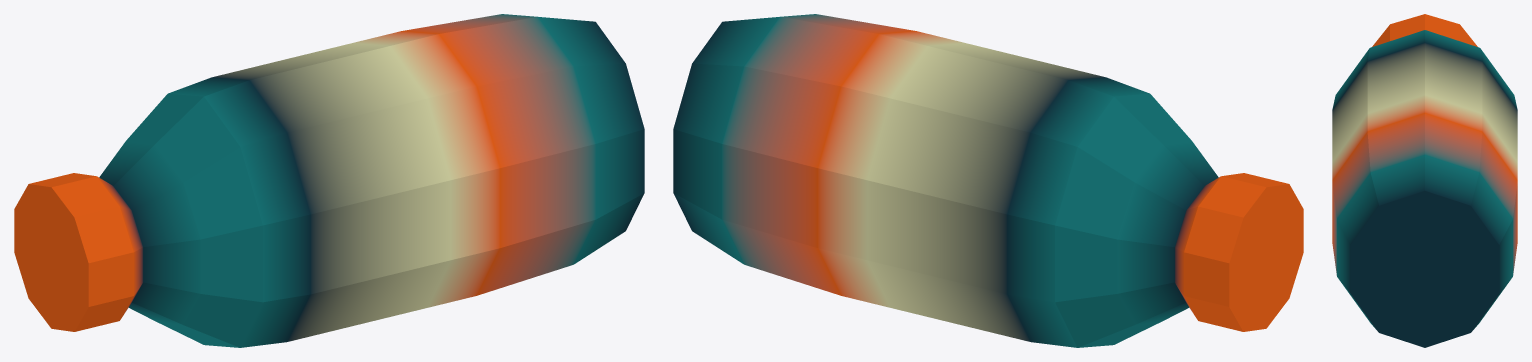
Rendered from SportDrinkBottle.glb.
3 renders of one model, left to right at view 1: azimuth 30°, elevation 25°; view 2: azimuth 150°, elevation 25°; view 3: azimuth 270°, elevation 25°, orthographic. The views are drawn at different scales.
Parts seen in each view (by area): view 1: SportDrinkBottle; view 2: SportDrinkBottle; view 3: SportDrinkBottle.
Part boxes in pixels (x1,y1,x2,y2): SportDrinkBottle: [14, 14, 644, 347]; SportDrinkBottle: [673, 14, 1303, 347]; SportDrinkBottle: [1332, 14, 1517, 347].
Bounding box in the file's own units: 0.66 × 0.3 × 0.2568.
